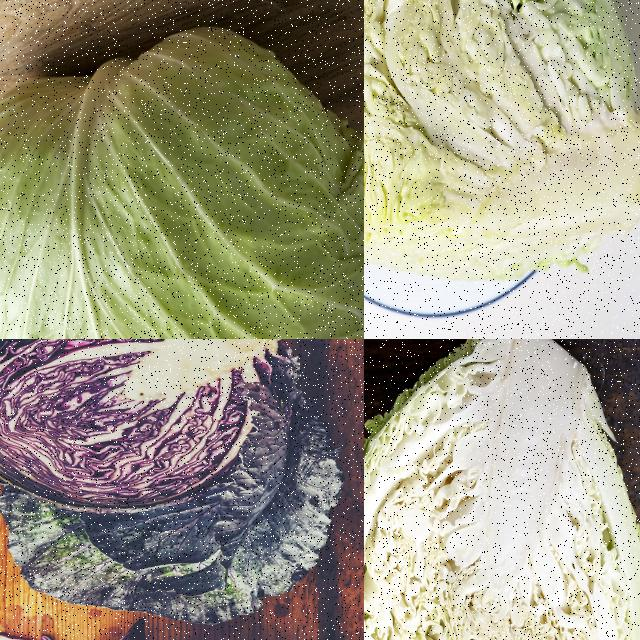cabbage: (0, 17, 363, 338), (364, 339, 639, 639), (364, 0, 639, 285), (0, 339, 290, 515)
